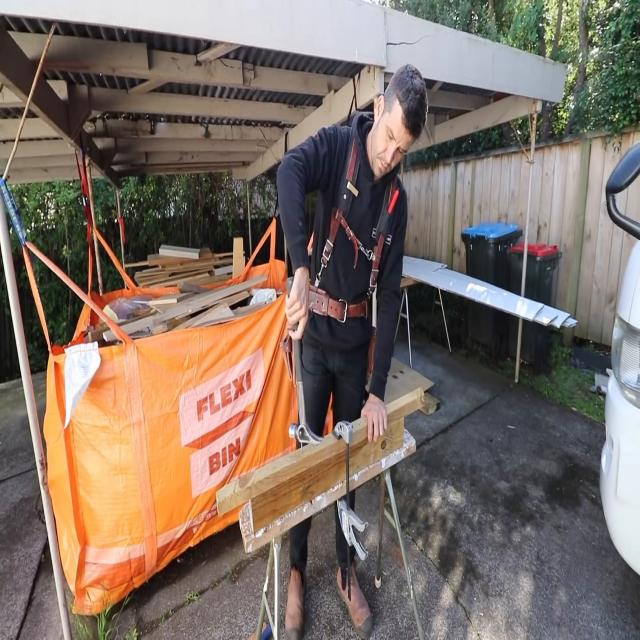hammer: (284, 274, 326, 449)
